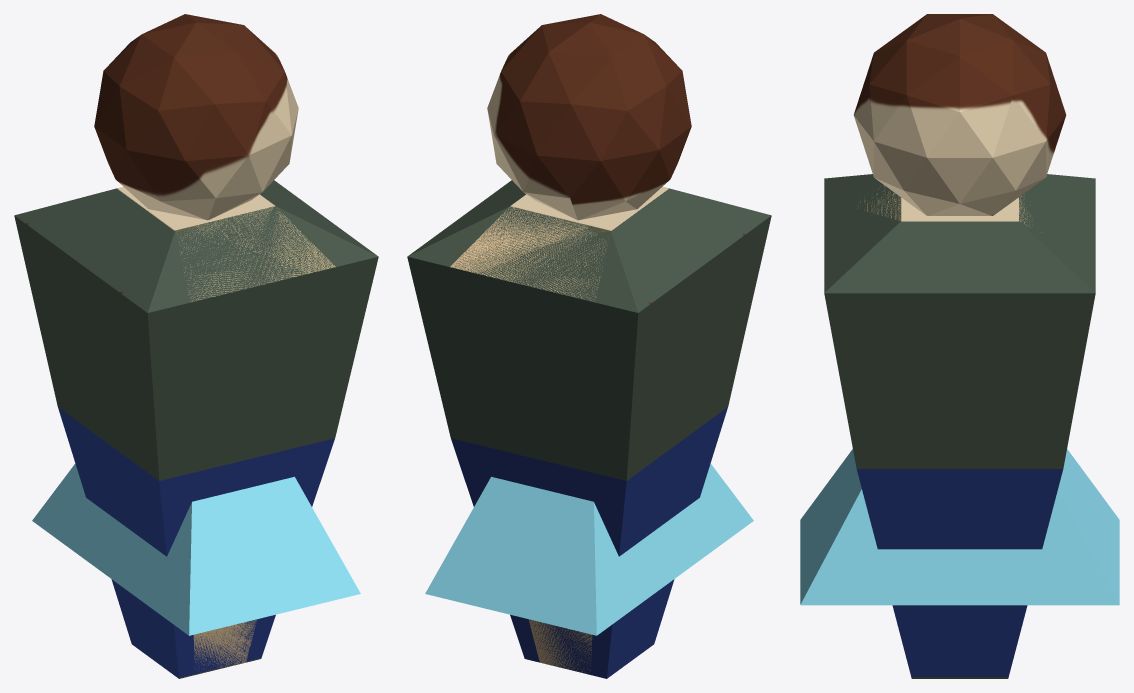
The model's file is person-01.glb.
3 renders of one model, left to right at view 1: azimuth 30°, elevation 25°; view 2: azimuth 150°, elevation 25°; view 3: azimuth 270°, elevation 25°, orthographic.
Parts seen in each view (by area): view 1: man-01, woman-01; view 2: man-01, woman-01; view 3: man-01, woman-01.
Part boxes in pixels (x1=…): man-01: x1=14, y1=14, x2=378, y2=678; woman-01: x1=32, y1=206, x2=360, y2=669; man-01: x1=407, y1=14, x2=771, y2=678; woman-01: x1=425, y1=207, x2=753, y2=673; man-01: x1=824, y1=14, x2=1095, y2=678; woman-01: x1=800, y1=185, x2=1119, y2=605.
Size of the model in its own units: 0.8951 by 2.33 by 1.05.
2 materials, 2 textured.
